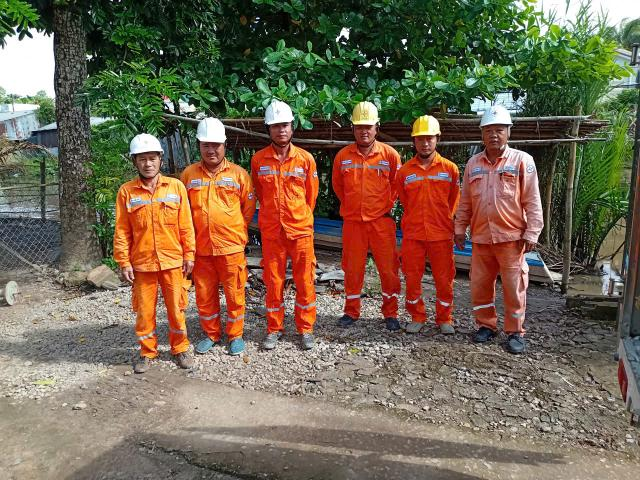helmet: (339, 97, 389, 136), (405, 112, 449, 149), (193, 114, 238, 147), (477, 103, 518, 132), (125, 130, 168, 157), (261, 99, 296, 126)
shoes: (351, 294, 407, 349), (324, 301, 378, 339), (501, 312, 534, 361), (432, 304, 464, 354), (458, 313, 499, 349), (194, 321, 224, 366), (404, 309, 431, 351), (221, 331, 250, 366), (124, 348, 169, 370), (169, 335, 192, 378), (261, 324, 286, 362), (295, 328, 321, 360)
